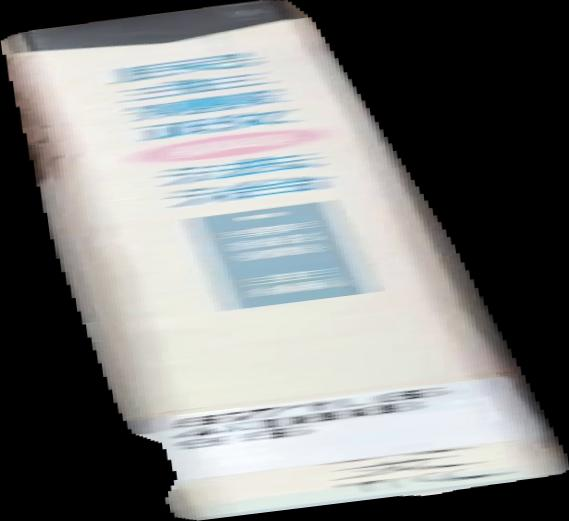book: (1, 1, 569, 521)
